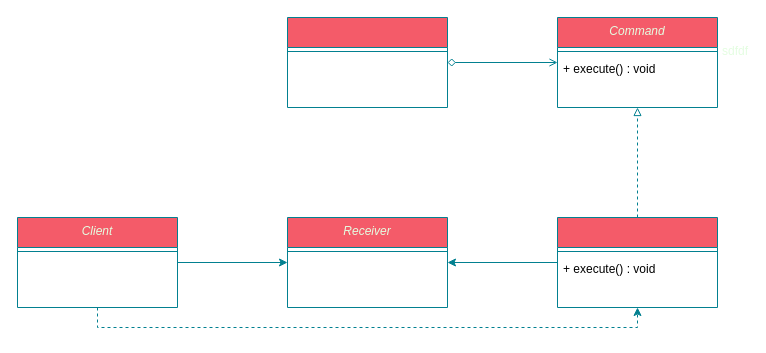
The diagram is 766 pixels wide and 353 high, and some of its shapes have lost their labels. Here are the shapes that lost their labels. From the top down, the box of each, then its label:
(286, 16, 448, 108): Invoker
(556, 216, 718, 308): ConcreteCommand
